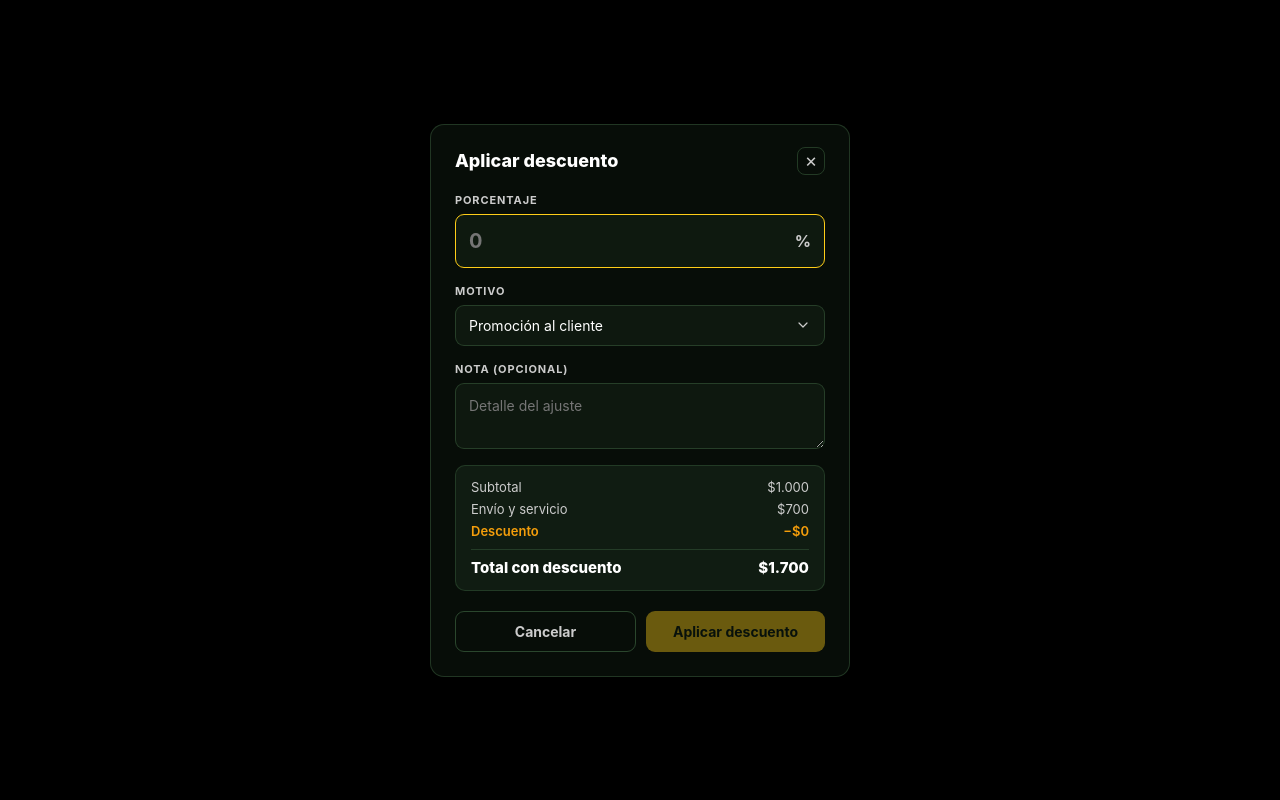
mensajes de error por código de estado › 422 muestra el guard de negocio del backend, distinto del de 400
The image size is (1280, 800).
Step 1. Type "10" into the number field labelled "Porcentaje" → (640, 240), box [455,214,825,268]
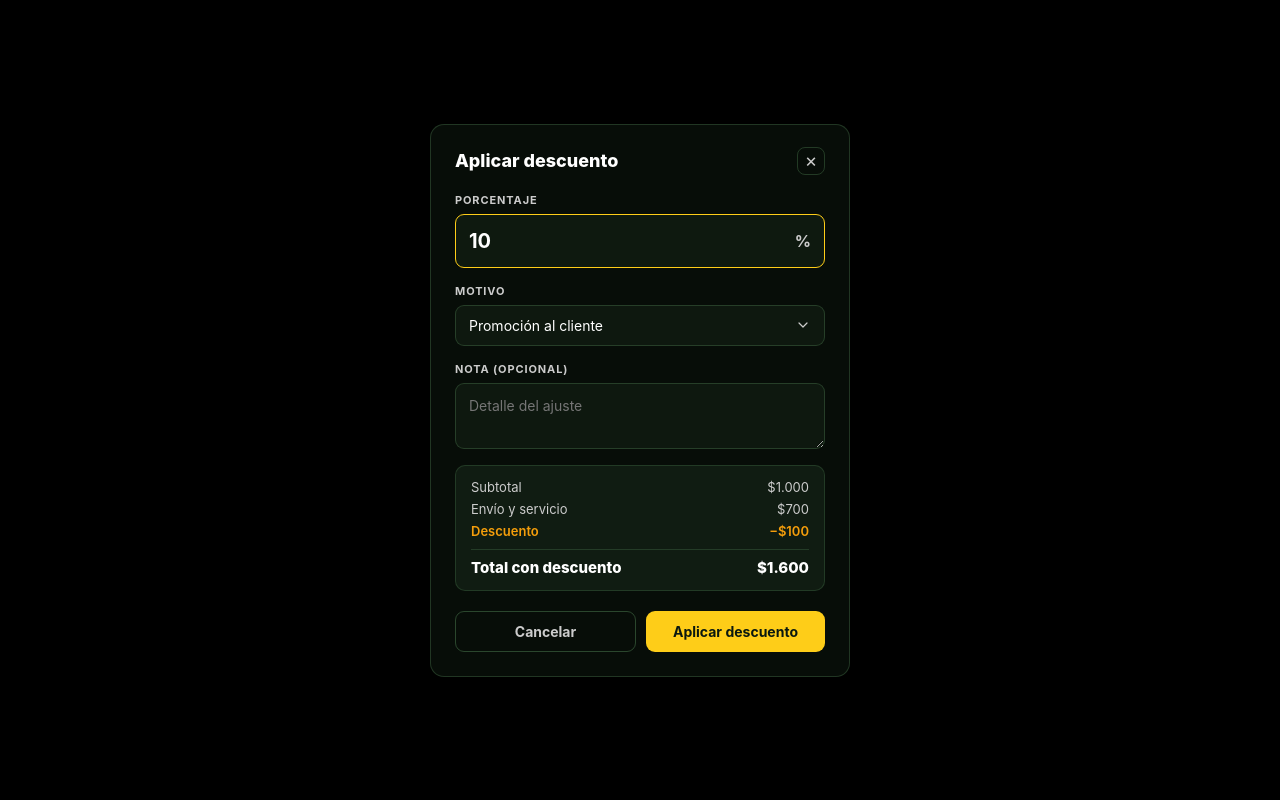
Step 2. Click the button "Aplicar descuento" → (736, 631), box [646,610,825,652]
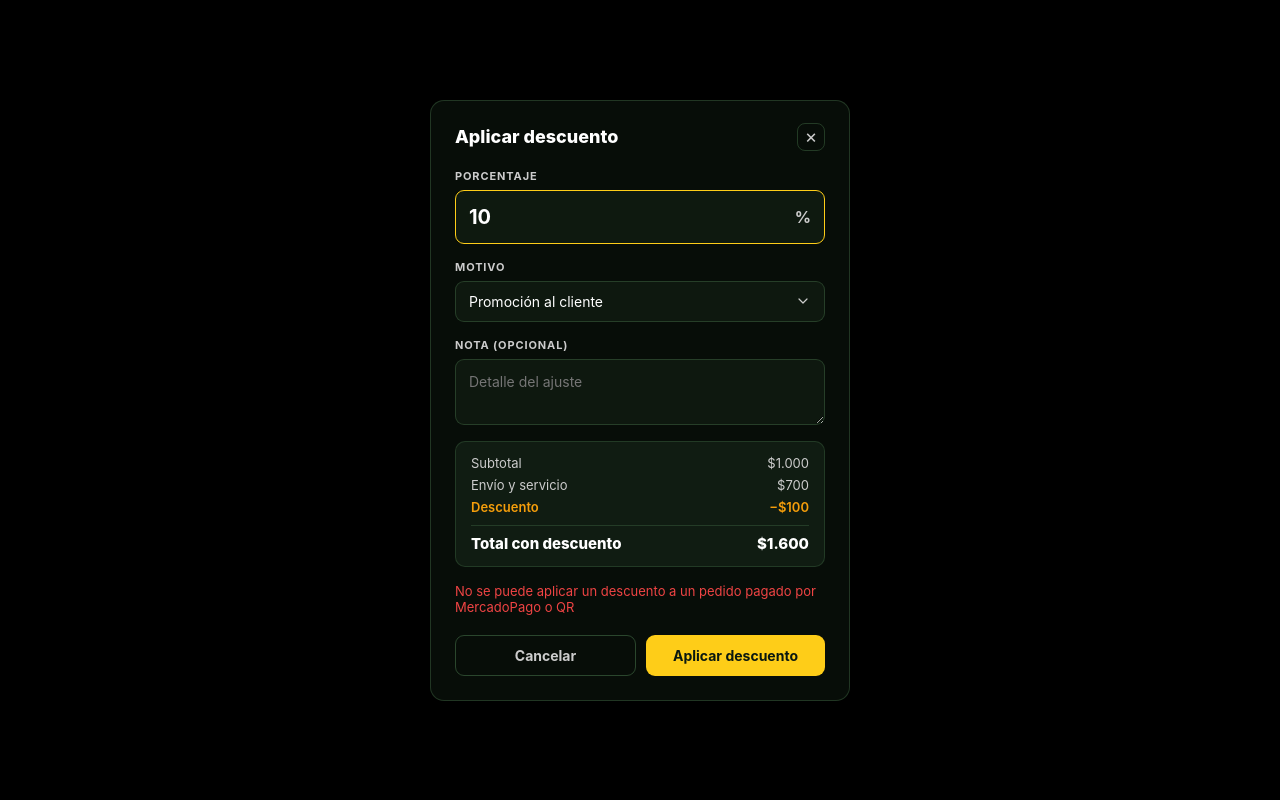
Result: the message shows "MercadoPago o QR" at [455,582,816,614]
